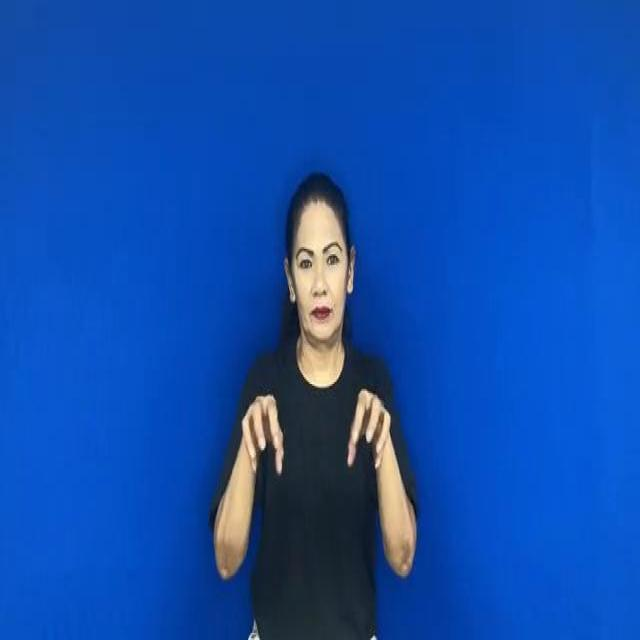egg: (227, 374, 398, 486)
